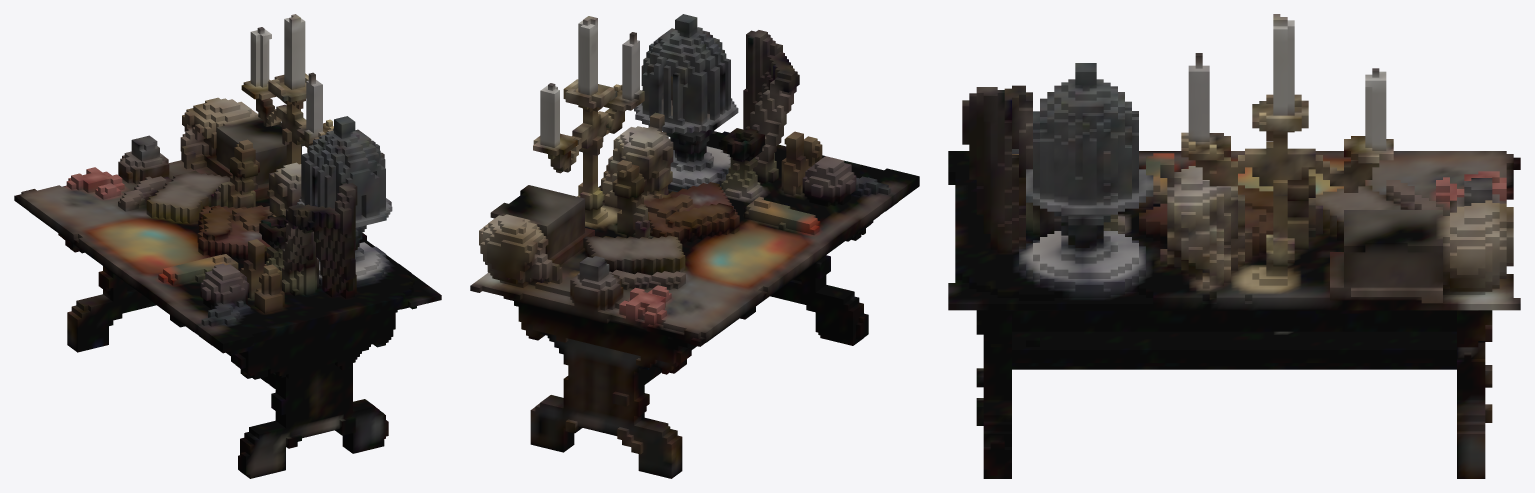
Rendered from deskHP.glb.
3 renders of one model, left to right at view 1: azimuth 30°, elevation 25°; view 2: azimuth 150°, elevation 25°; view 3: azimuth 270°, elevation 25°, orthographic. The views are drawn at different scales.
Visible parts, largest first — view 1: world; view 2: world; view 3: world.
Part boxes in pixels (x1,y1,x2,y2): world: [14, 14, 441, 478]; world: [470, 14, 919, 478]; world: [948, 14, 1520, 478].
Bounding box in the file's own units: 0.6346 × 0.9208 × 1.01.
